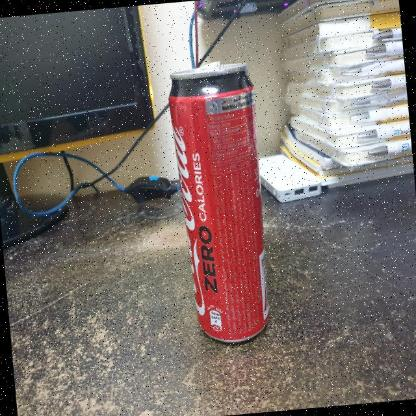Can: (157, 46, 285, 356)
